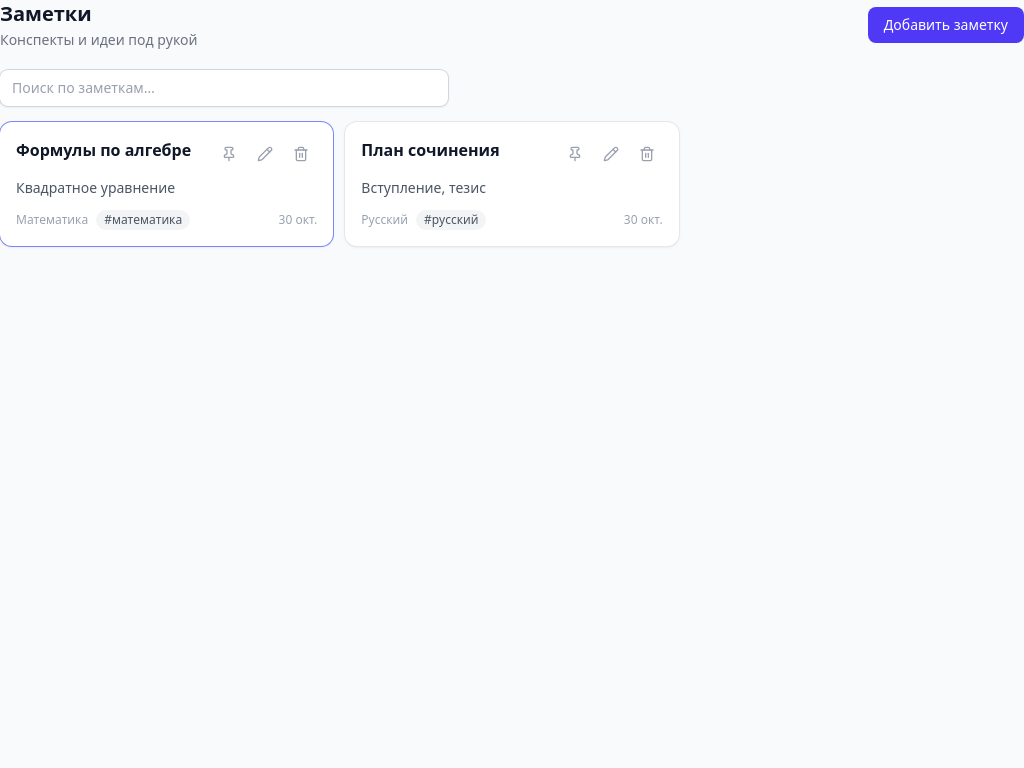
NotesPage › adds a note
The width and height of the screenshot is (1024, 768).
Click the button "Добавить заметку". click: (946, 25)
box: [868, 7, 1023, 43]
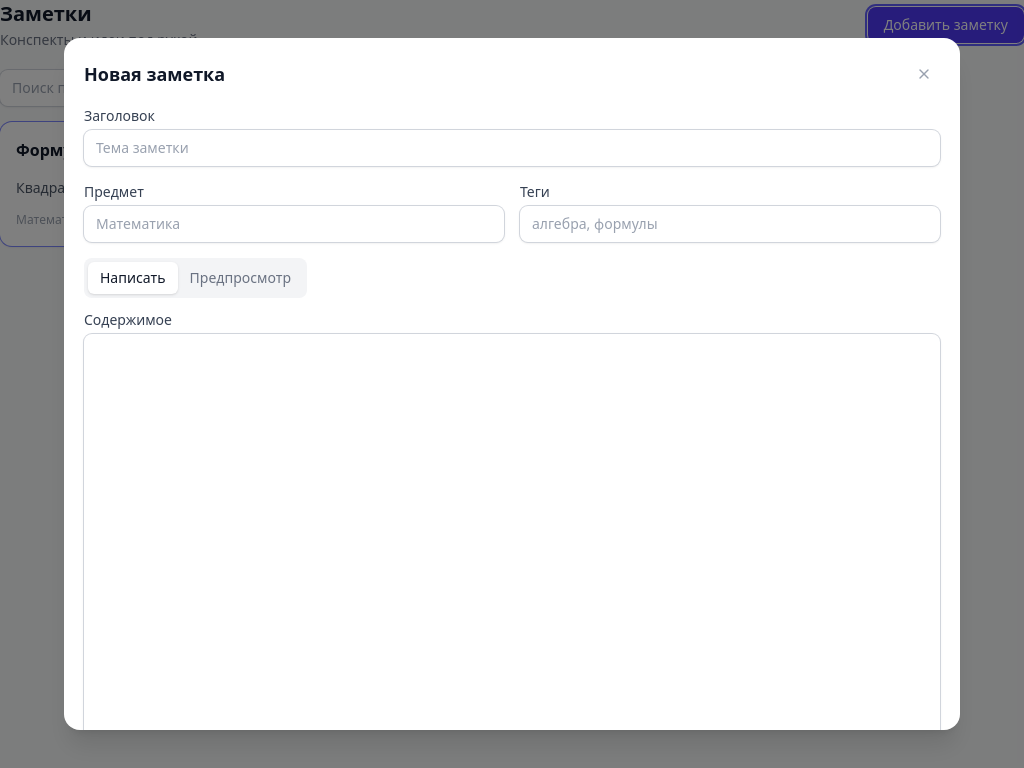
Type "Идеи для проекта" into the field labelled "Заголовок". click: (512, 148)
box: [84, 130, 940, 166]
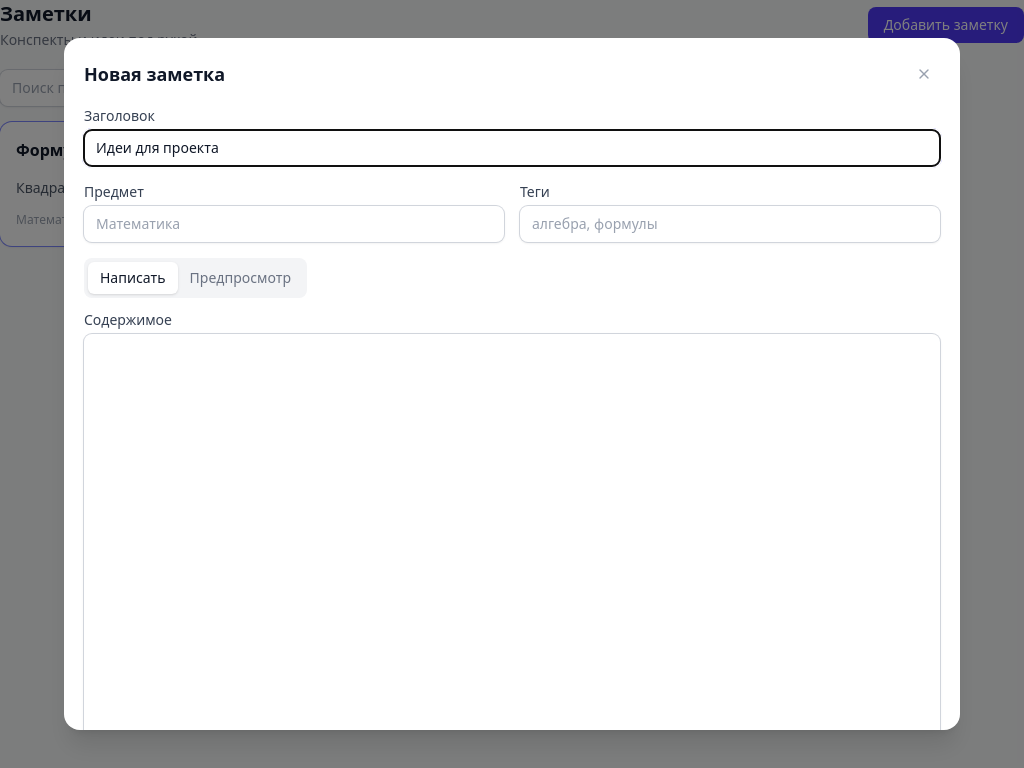
Type "Первый пункт" into the text box labelled "Содержимое". click: (512, 544)
box: [84, 334, 940, 754]
(page scrolled)
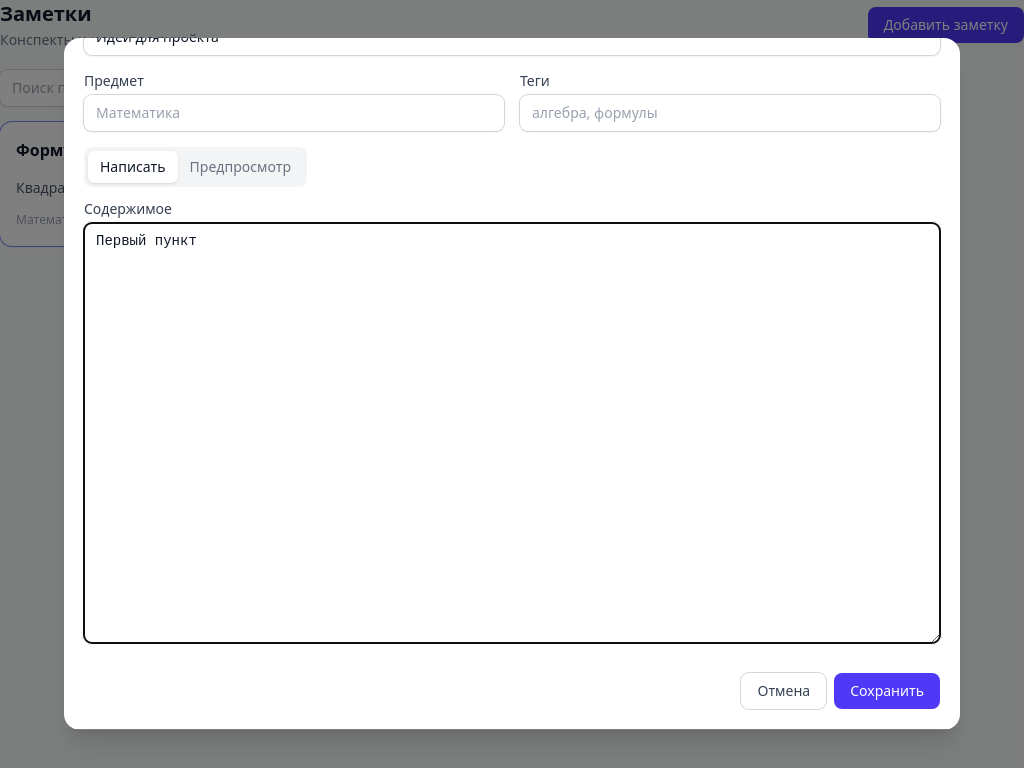
Click the button "Сохранить". click: (887, 691)
box: [834, 673, 940, 709]
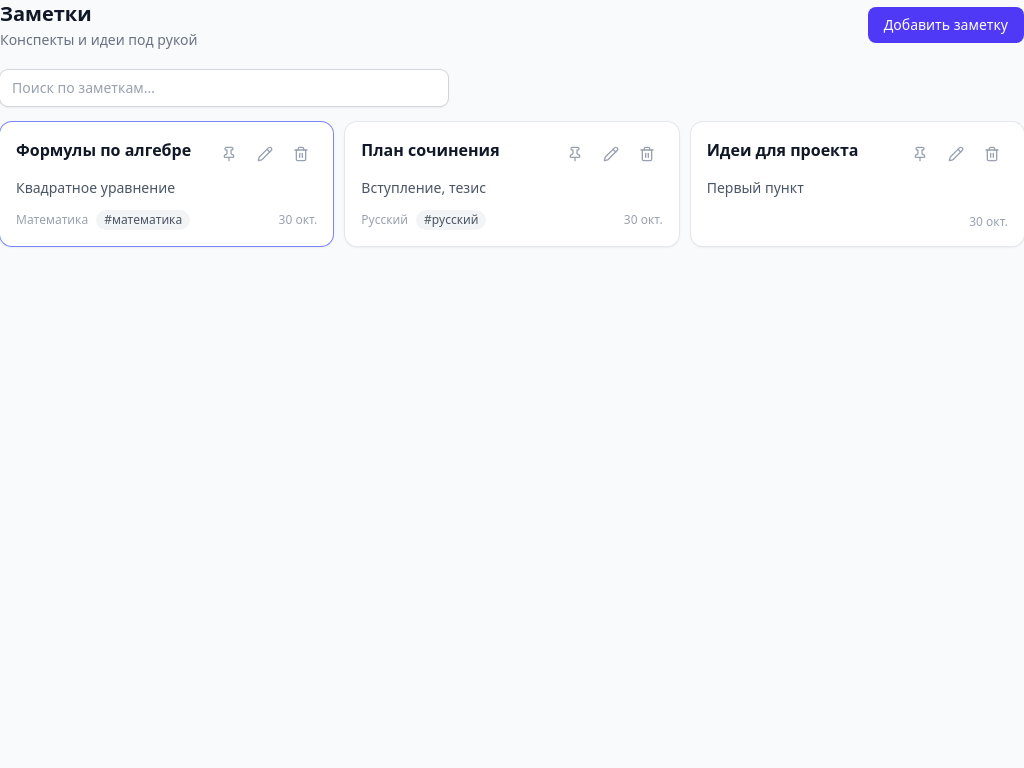
Check: the heading "Идеи для проекта" is shown, box [707, 138, 859, 162]
